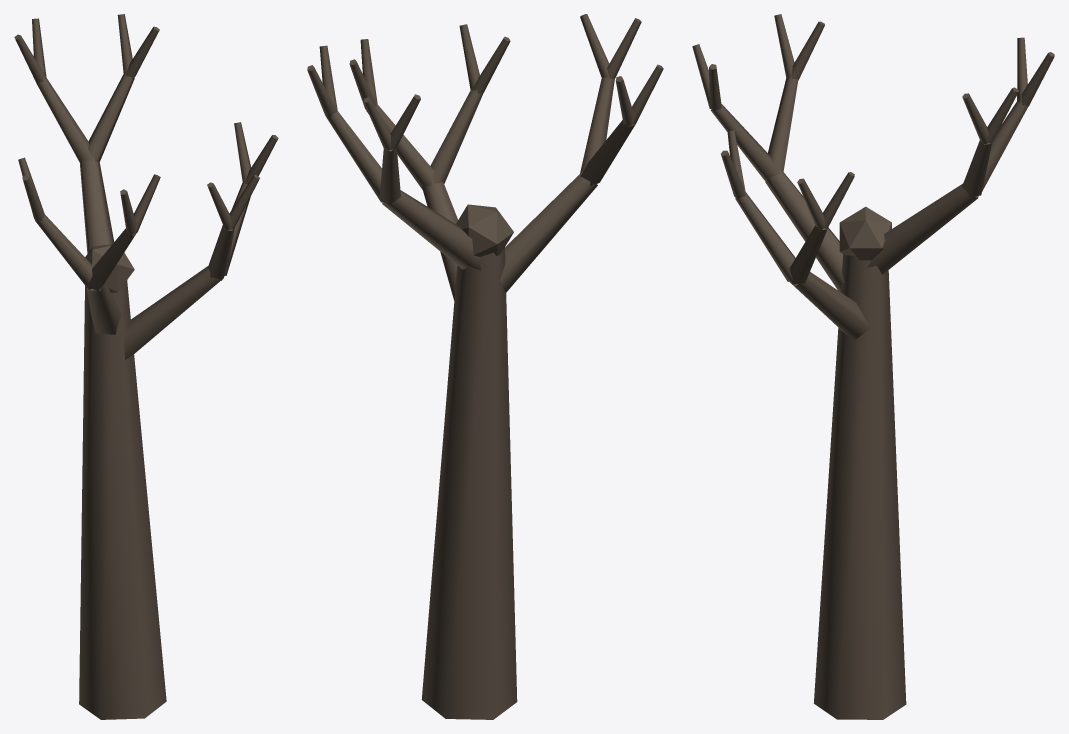
File: tree_dead_2.glb
3 renders of one model, left to right at view 1: azimuth 30°, elevation 25°; view 2: azimuth 150°, elevation 25°; view 3: azimuth 270°, elevation 25°, orthographic. The views are drawn at different scales.
Visible parts, largest first — view 1: trunk, crown; view 2: trunk, crown; view 3: trunk, crown.
Boxes of the visible parts, x1,y1,x2,y2 form: trunk: [79, 244, 166, 719]; crown: [14, 14, 278, 359]; trunk: [421, 204, 517, 719]; crown: [307, 14, 663, 300]; trunk: [814, 206, 906, 719]; crown: [692, 14, 1054, 340].
Bounding box in the file's own units: 1.05 × 2.34 × 1.18.
